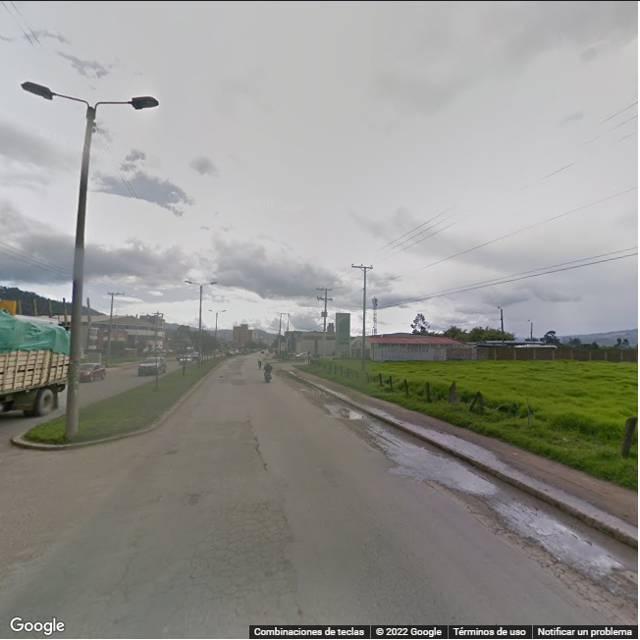D00: (118, 515, 149, 594)
D20: (203, 501, 281, 622)
